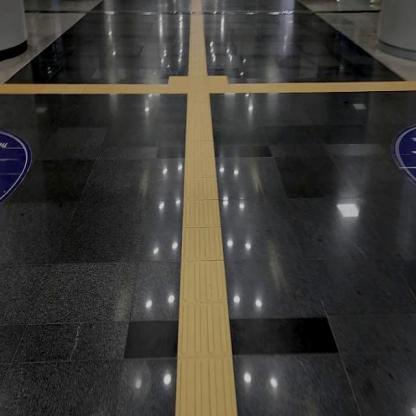podotacti: (176, 96, 233, 414), (154, 56, 240, 117), (230, 82, 415, 96), (0, 84, 167, 96), (187, 0, 209, 75)
